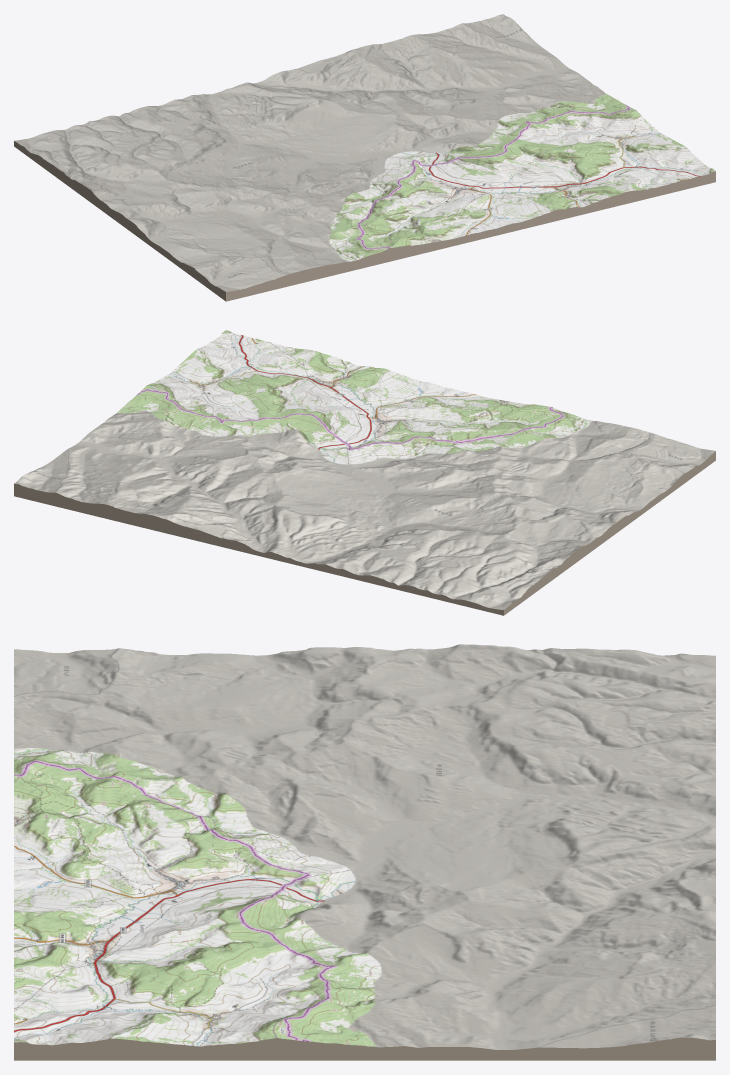
3 views of the same model, one above another, from view 1: azimuth 30°, elevation 25°; view 2: azimuth 150°, elevation 25°; view 3: azimuth 270°, elevation 25° (orthographic). The views are drawn at different scales.
Visible parts, largest first — view 1: BV50-A2 Bunești; view 2: BV50-A2 Bunești; view 3: BV50-A2 Bunești.
Part boxes in pixels (x1,y1,x2,y2): BV50-A2 Bunești: (14, 14, 715, 301); BV50-A2 Bunești: (14, 330, 715, 615); BV50-A2 Bunești: (14, 644, 715, 1060).
Bounding box in the file's own units: 20000 × 598 × 15000.
3 materials, 1 textured.
